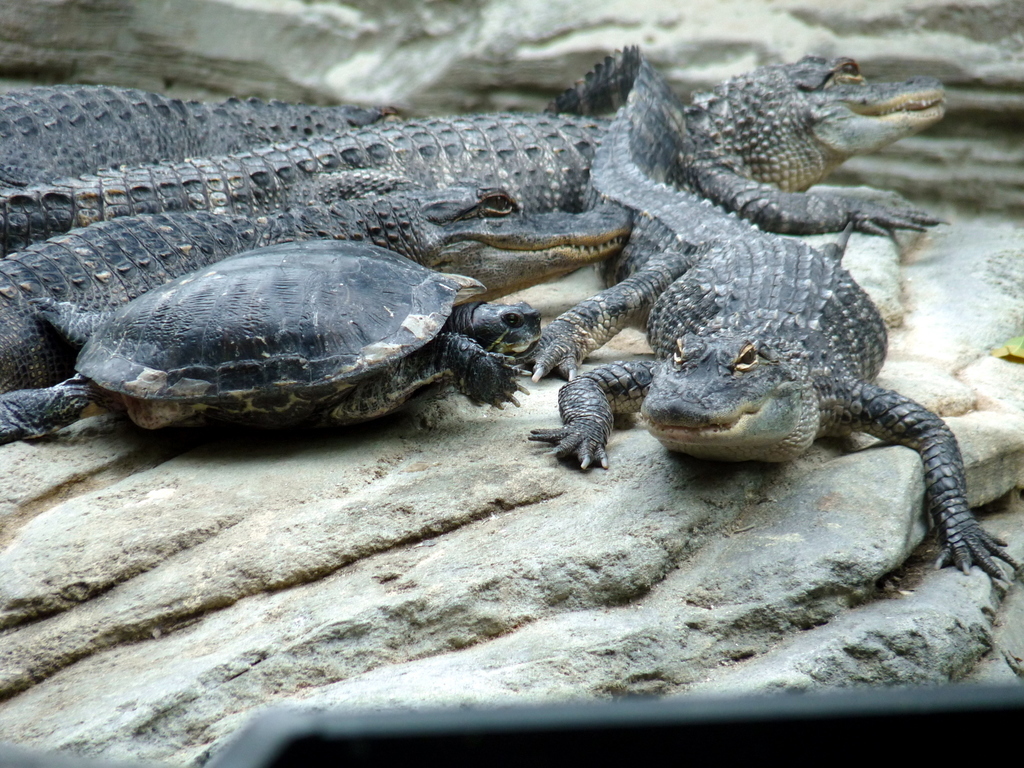Sea turtles: (0, 234, 545, 452)
